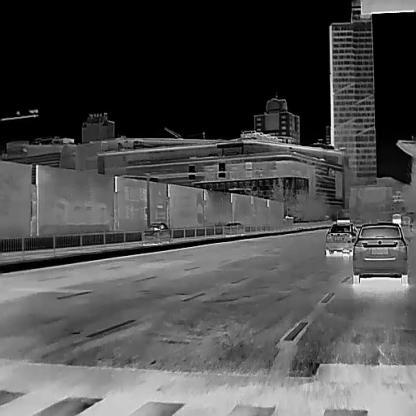car: (350, 219, 408, 286), (323, 217, 359, 257), (140, 221, 172, 245), (223, 220, 245, 233), (392, 213, 401, 223)
